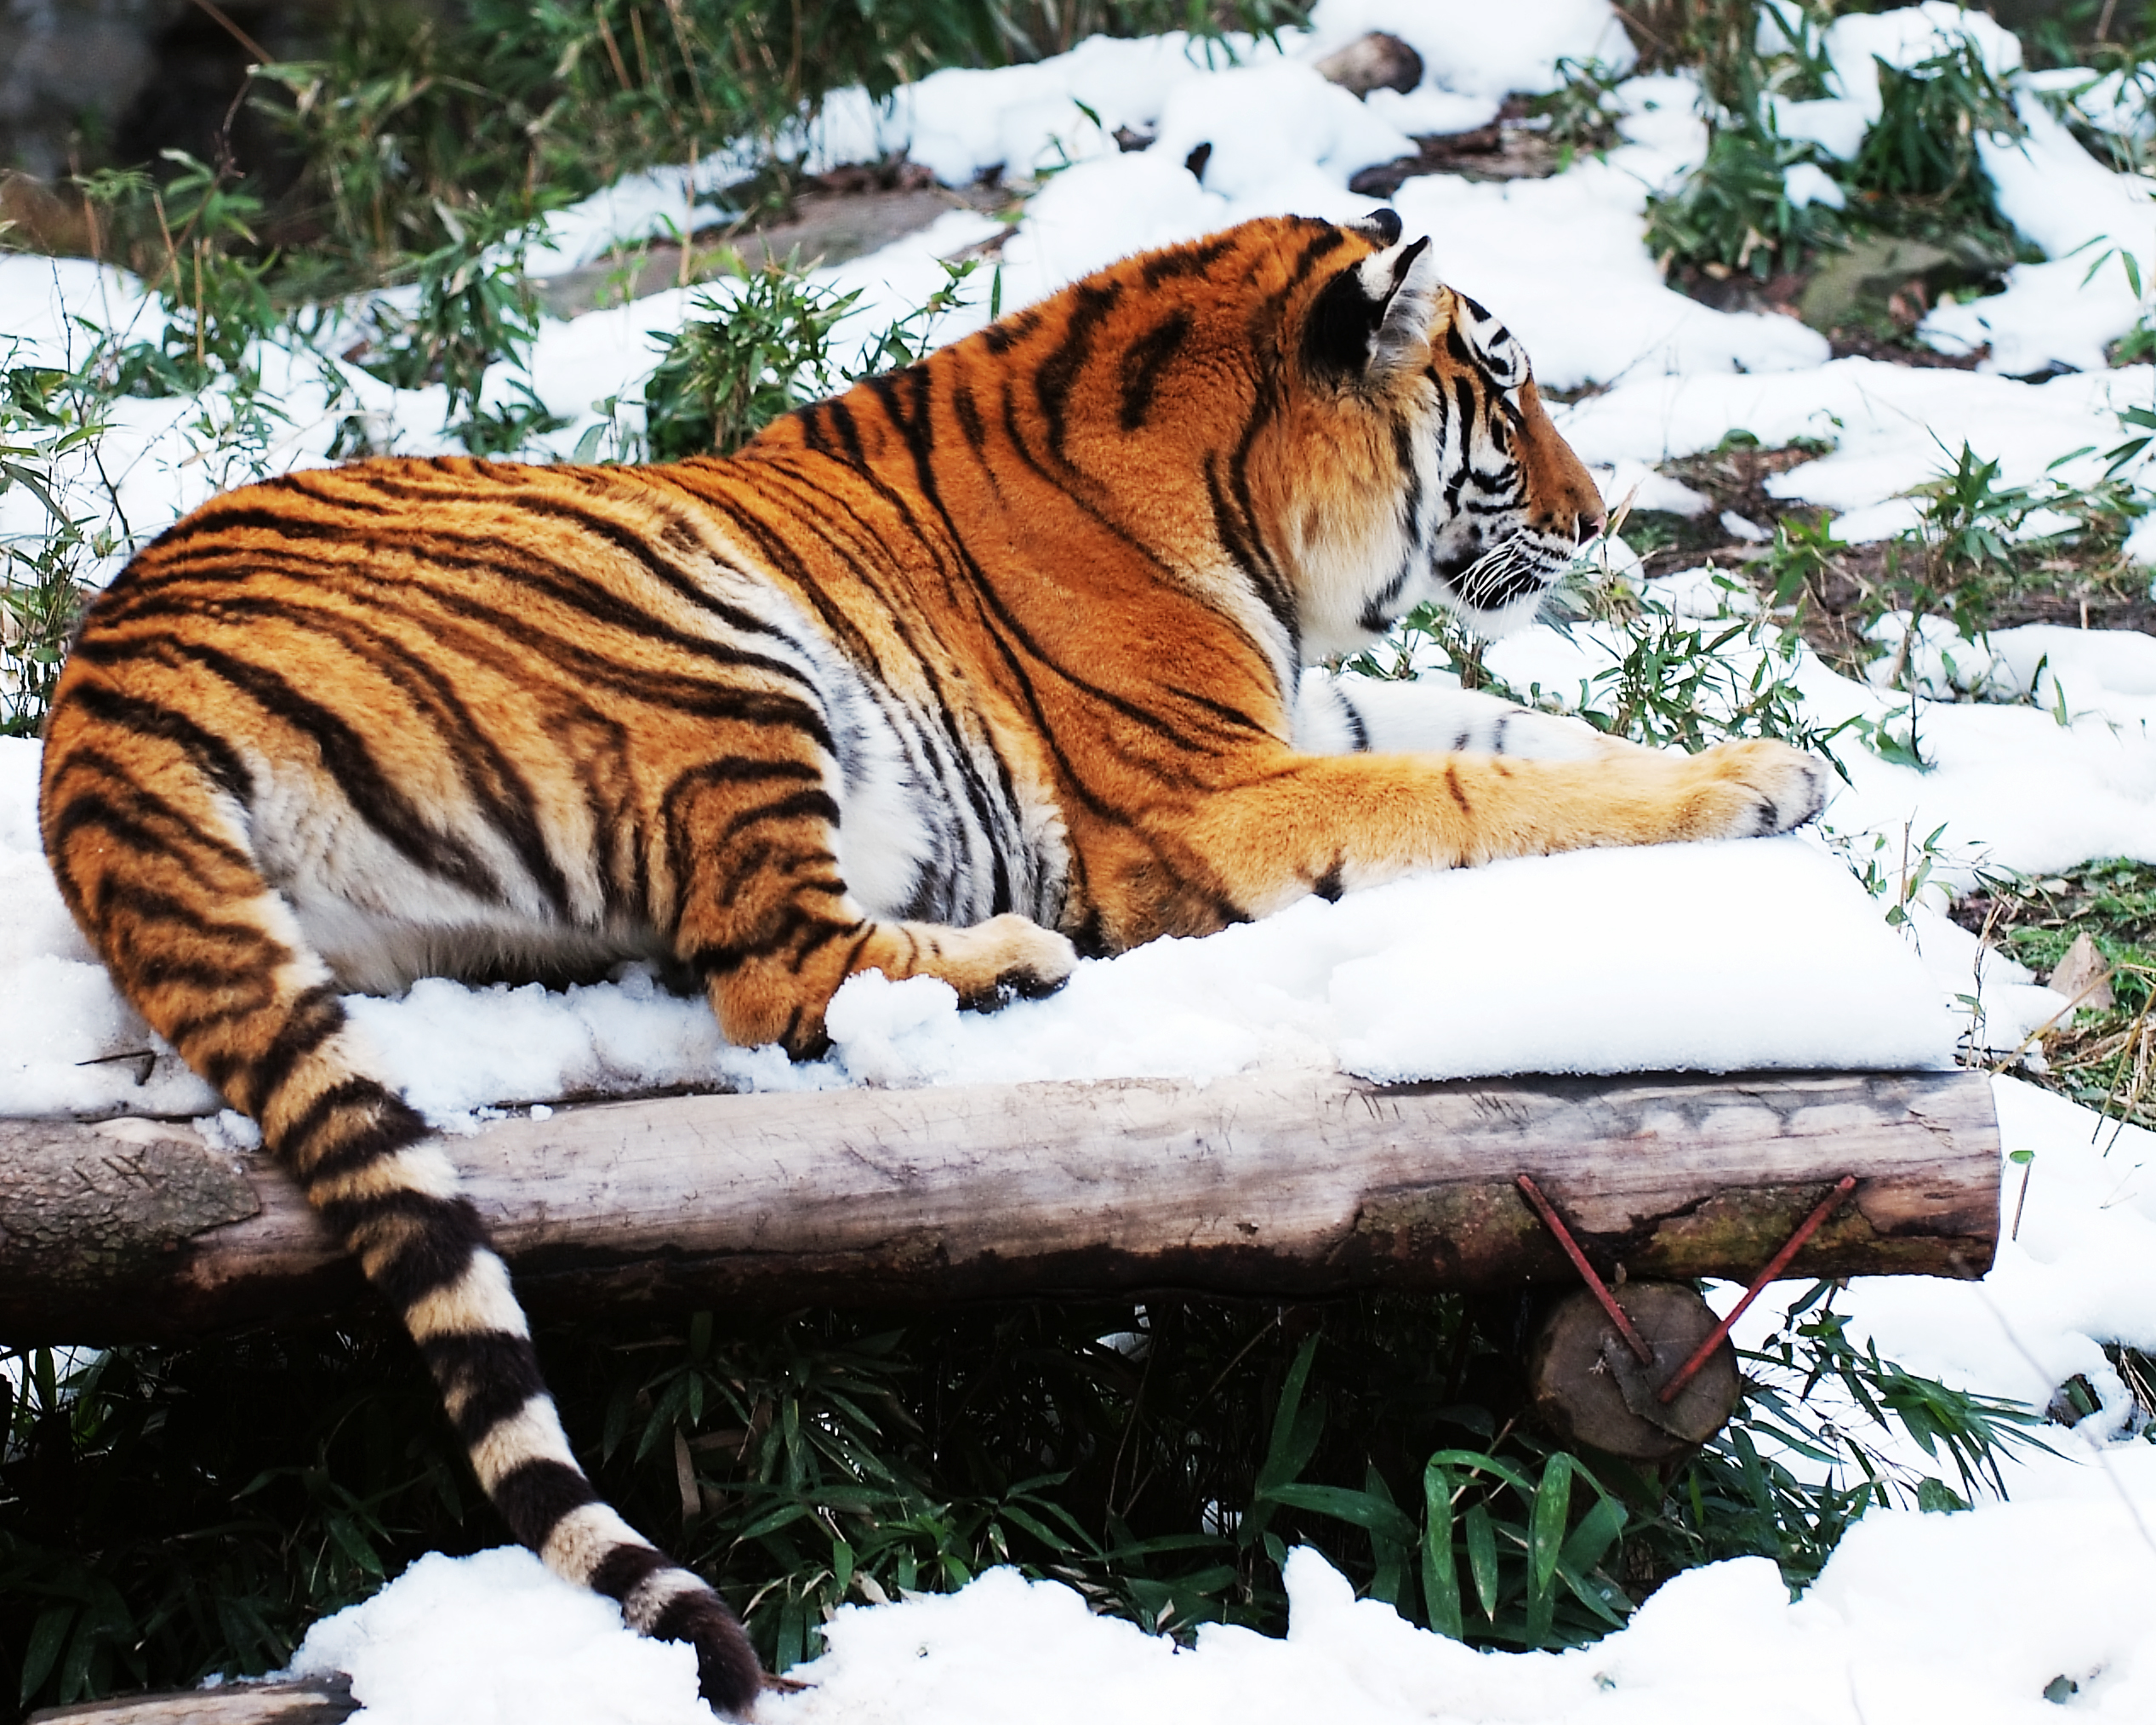tiger: (51, 197, 1783, 1648)
